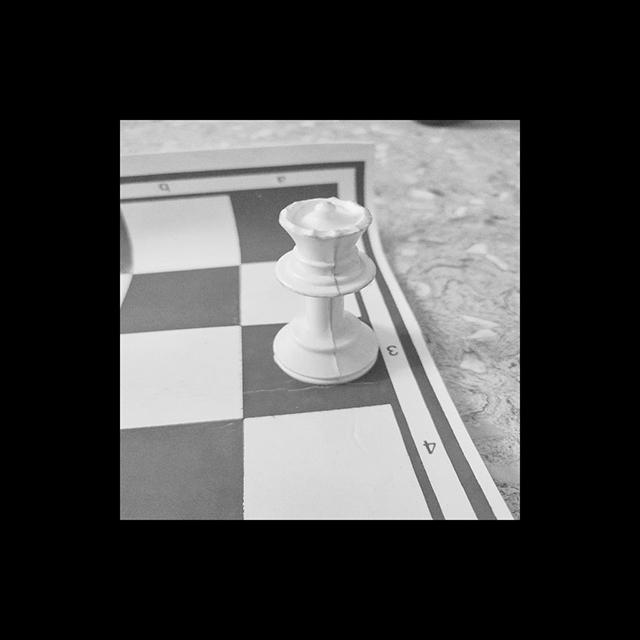white-queen: (270, 197, 381, 386)
